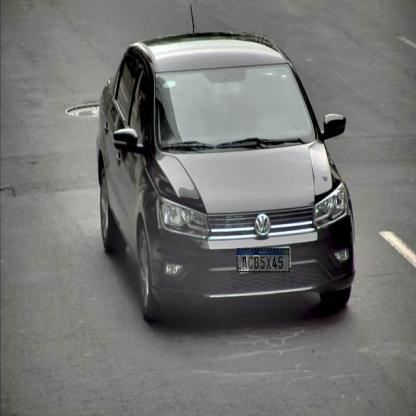PlacaM: (236, 248, 289, 273)
